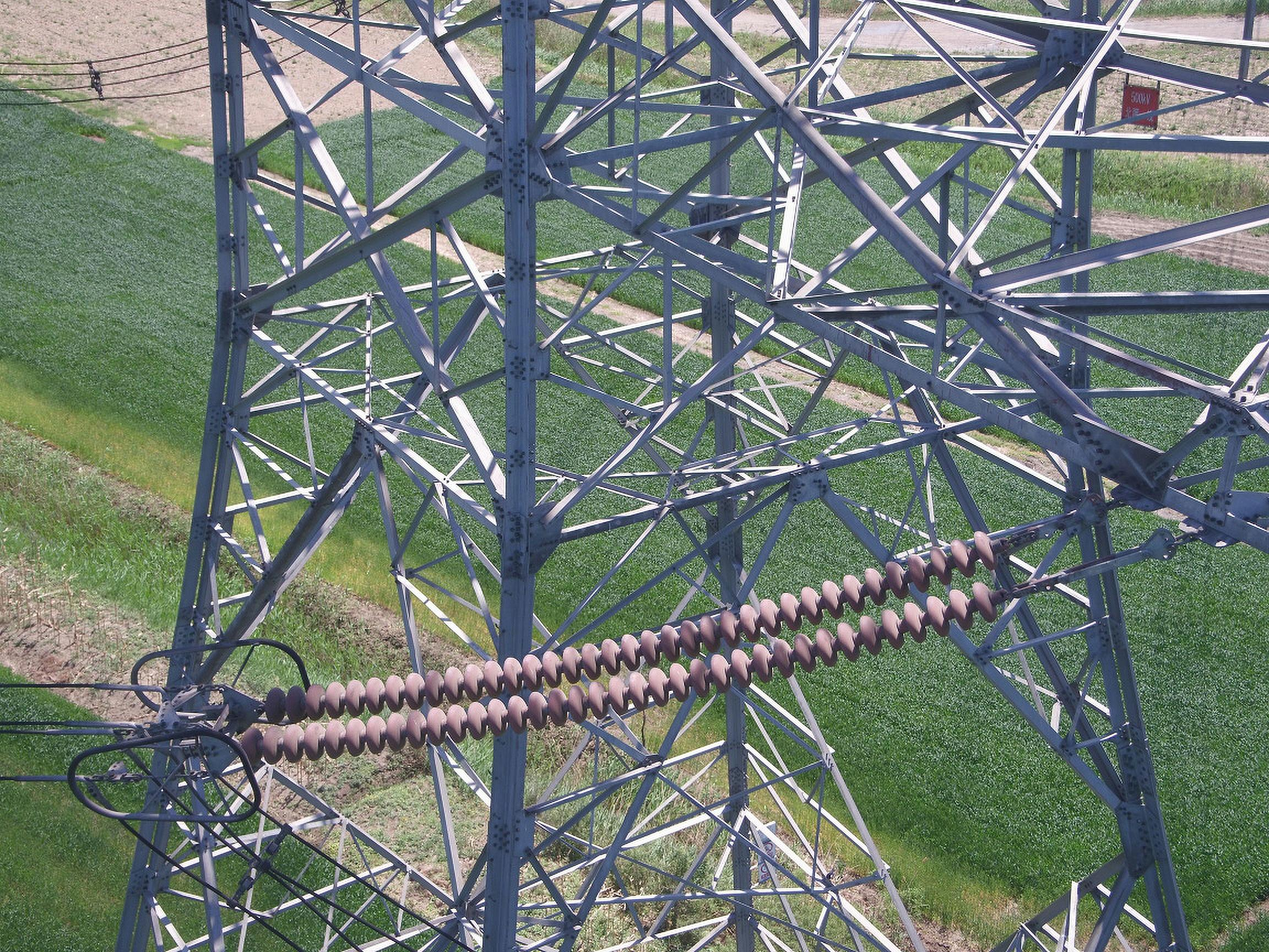insulator: (233, 526, 1002, 775)
